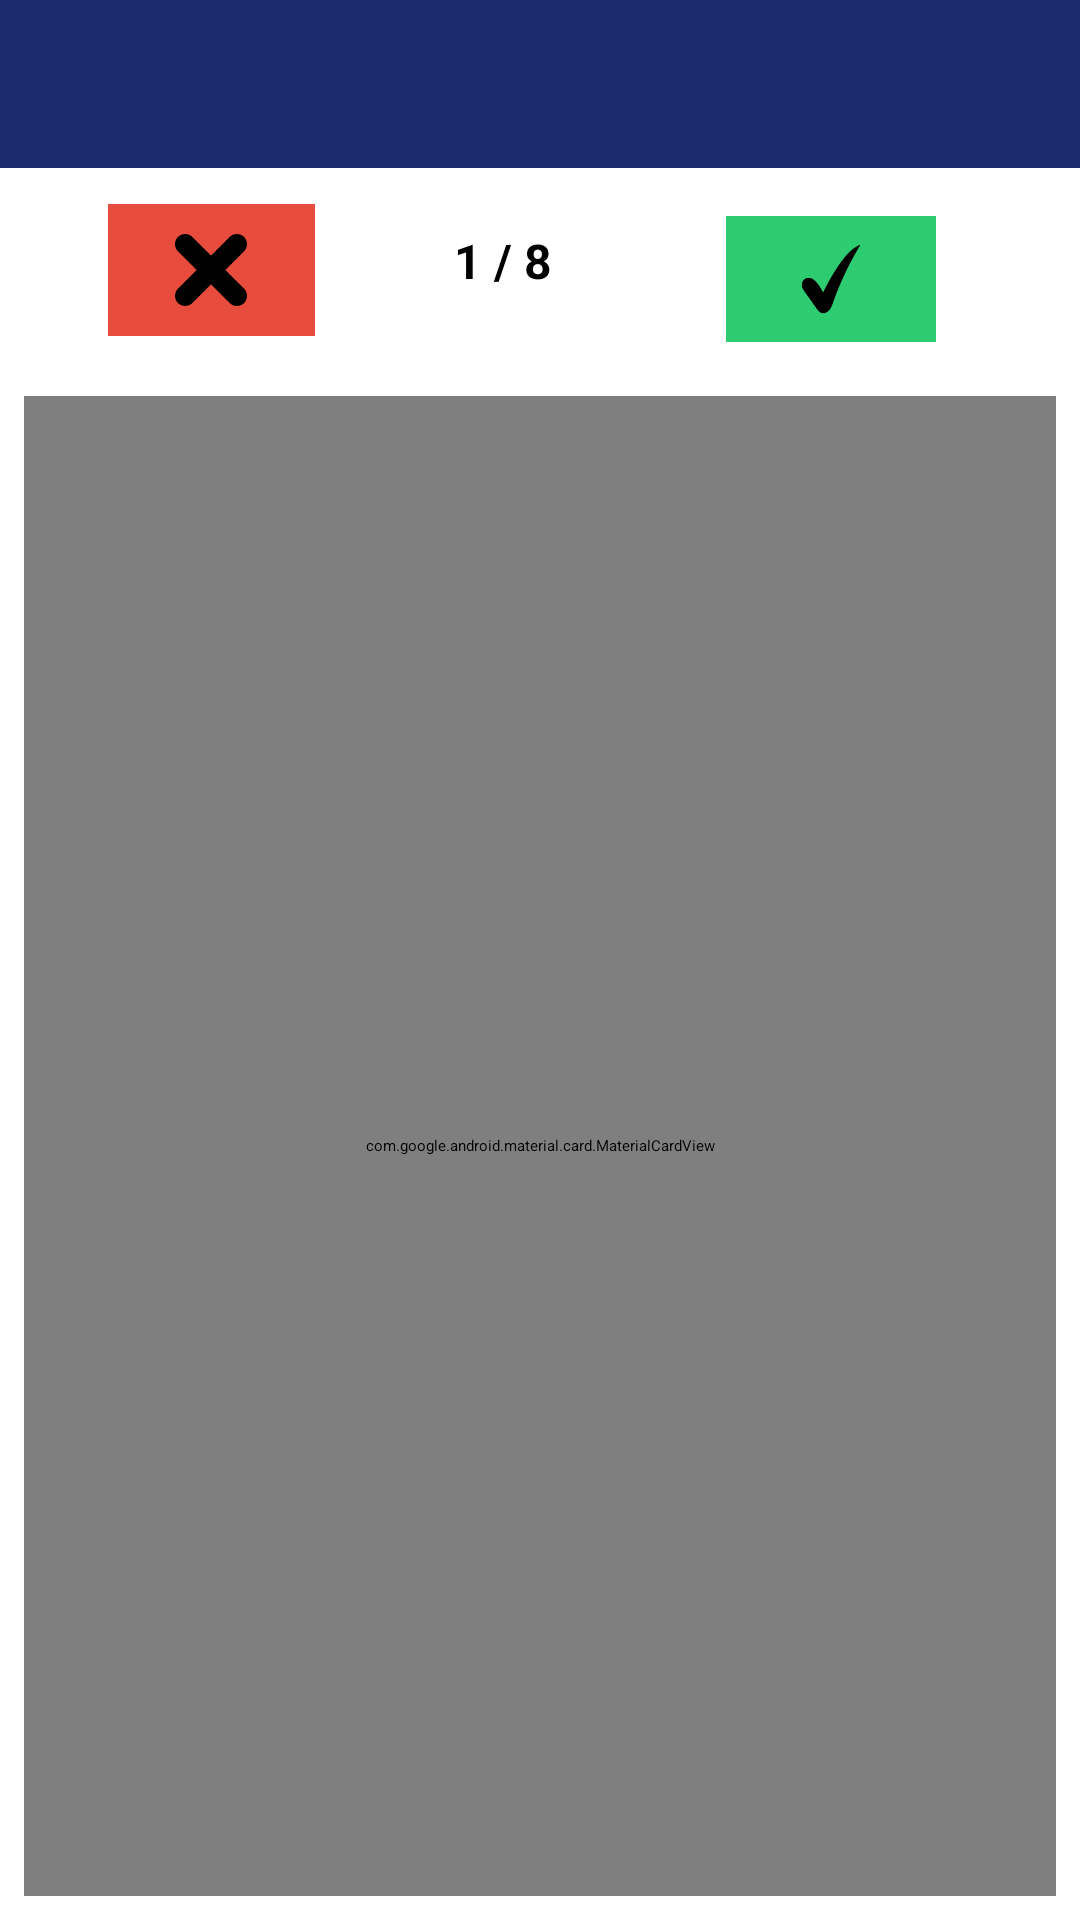

Icons on this 1080px×1920px Android screen, each with the point to tap as (x,y):
right: (831,279)
wrong: (211,270)
